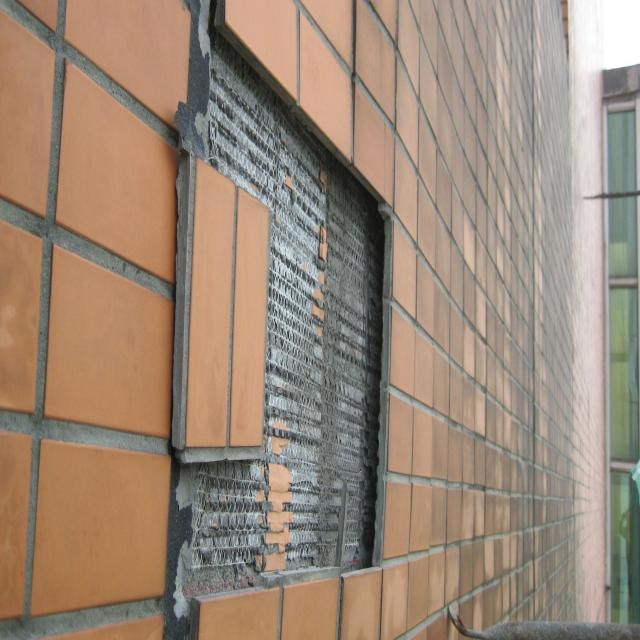tile: (191, 26, 392, 598)
